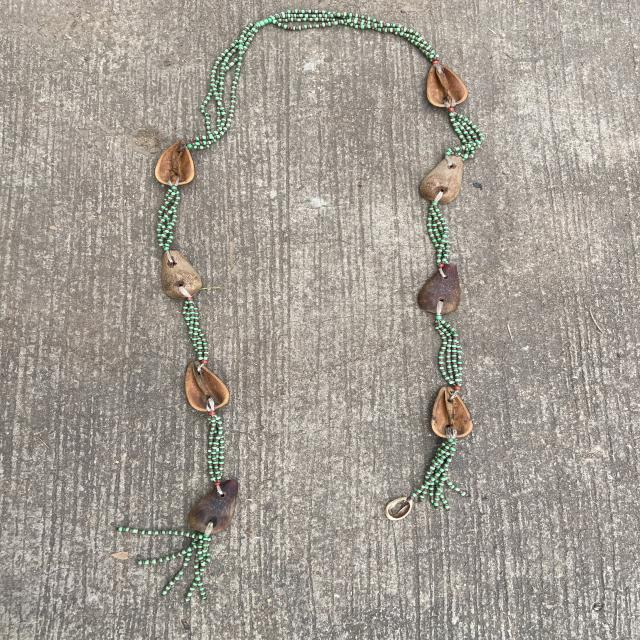facedown: (184, 475, 248, 539), (416, 151, 470, 204), (418, 260, 462, 322), (150, 250, 204, 300)
faceup: (172, 359, 236, 414), (419, 54, 472, 113), (424, 384, 477, 440), (150, 136, 200, 189)
